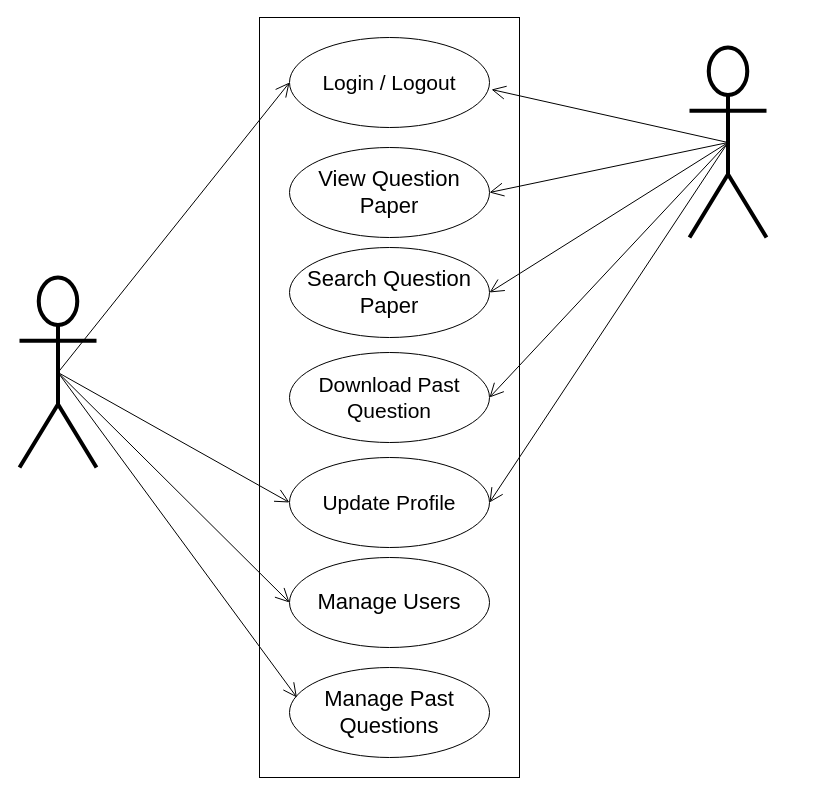
Some shapes in this 818 by 795 pixel diagram are drawn without their labels. The shapes that lost their labels are listed below. From the top down, each one's centre as x and y in pixels, then its label:
At pixel 727 142: "Users (student)".
At pixel 57 372: "Admin".
